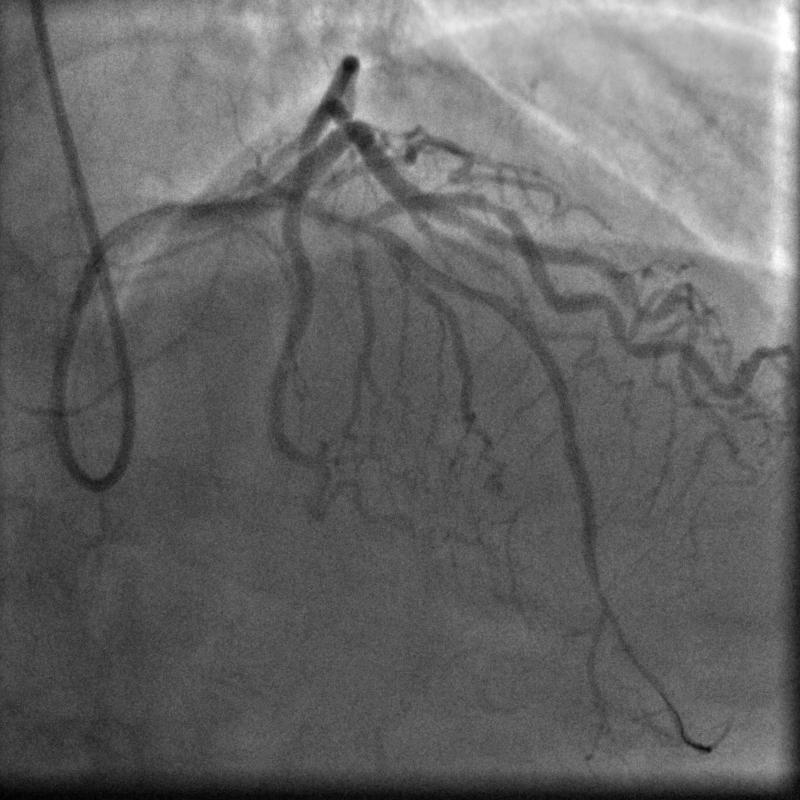Stenosis: (470, 187, 514, 228)
